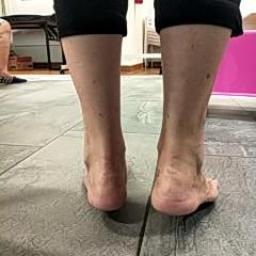Back View -Both Feet-: (64, 114, 236, 234)
